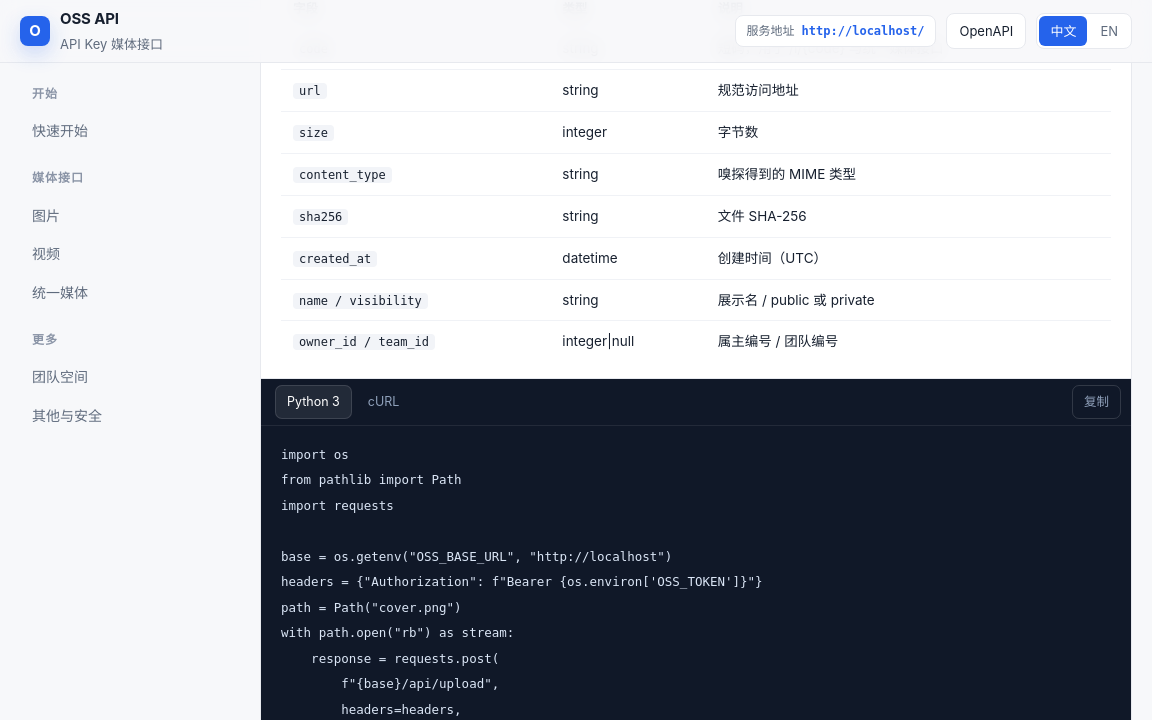
it: static API documentation › switches tabs with the keyboard and copies the active cURL example with feedback
(page scrolled)
Press ArrowRight in the tab "Python 3", box [275,385,352,419]
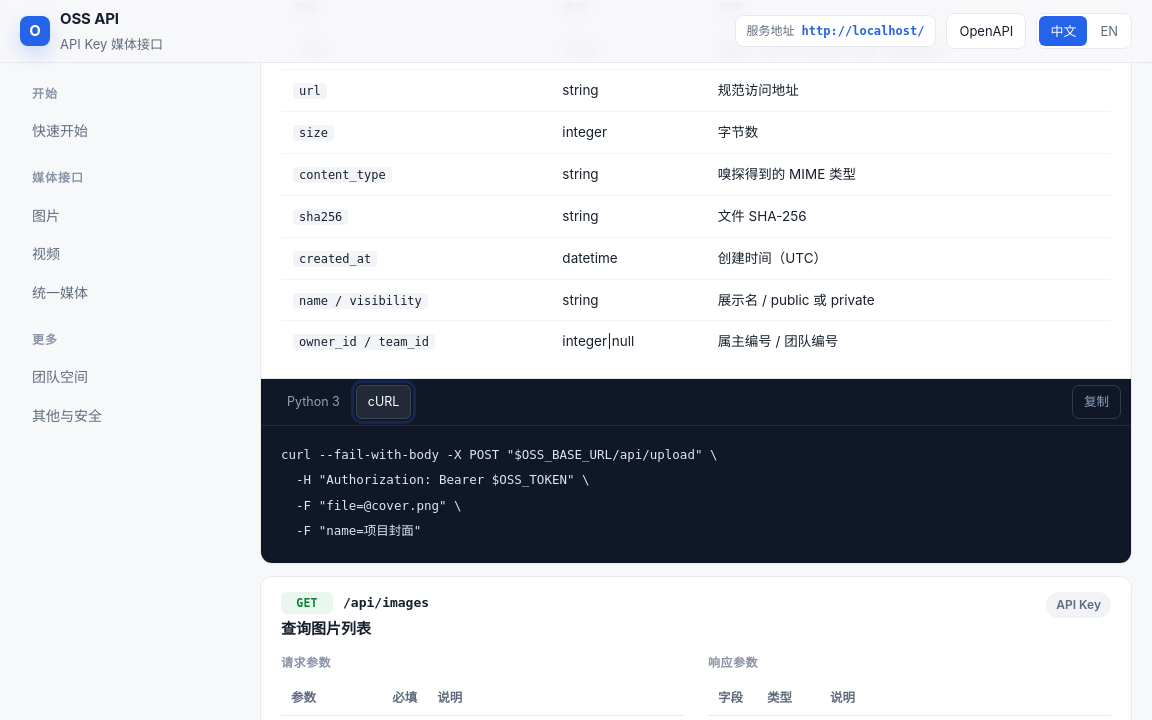
Now the tab "cURL" is selected, box [356,385,411,419]
Click the button "复制" at (1096, 402), box [1072,385,1121,419]
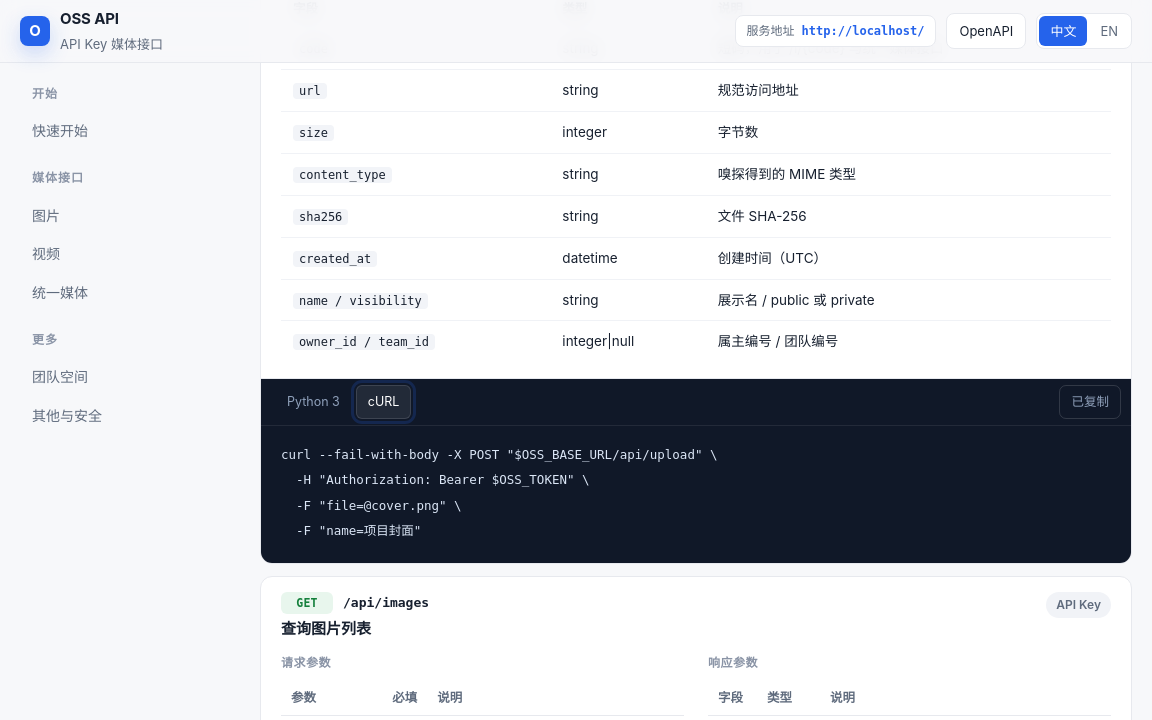
Now the button "已复制" is shown, box [1060,385,1121,419]
